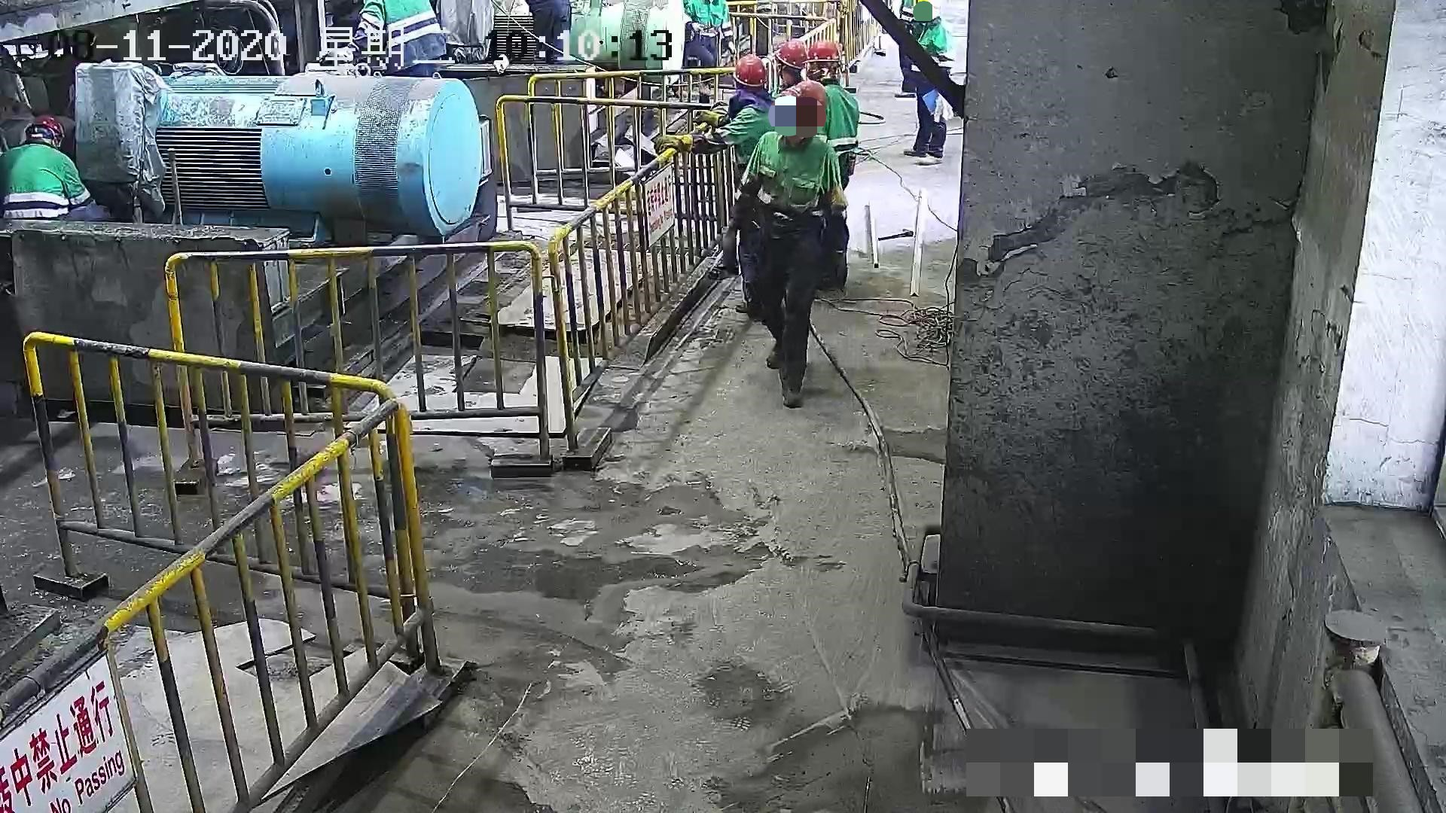hat: (773, 81, 825, 128), (801, 39, 843, 81), (732, 53, 767, 91), (23, 114, 64, 145), (774, 39, 807, 76), (914, 1, 940, 20)
person: (727, 75, 849, 410), (651, 49, 785, 279), (2, 112, 114, 220), (791, 37, 860, 193), (900, 0, 952, 166), (343, 1, 446, 78), (682, 1, 736, 87)
